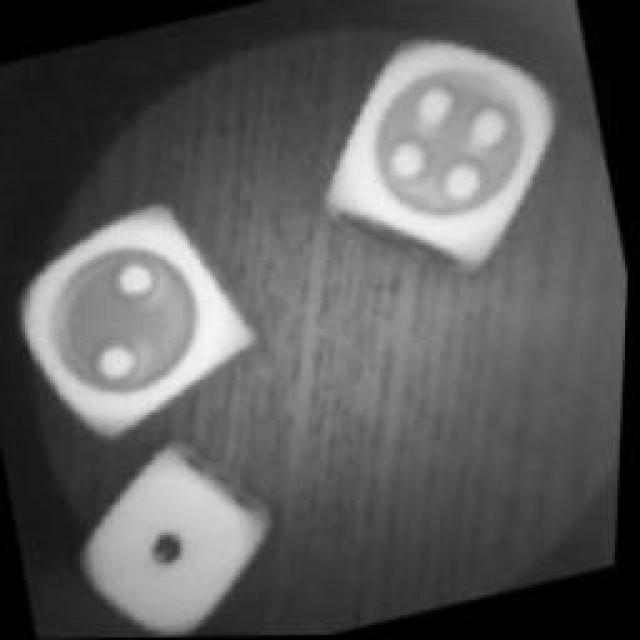dice_1: (81, 445, 279, 640)
dice_2: (14, 195, 264, 445)
dice_4: (322, 15, 576, 280)
